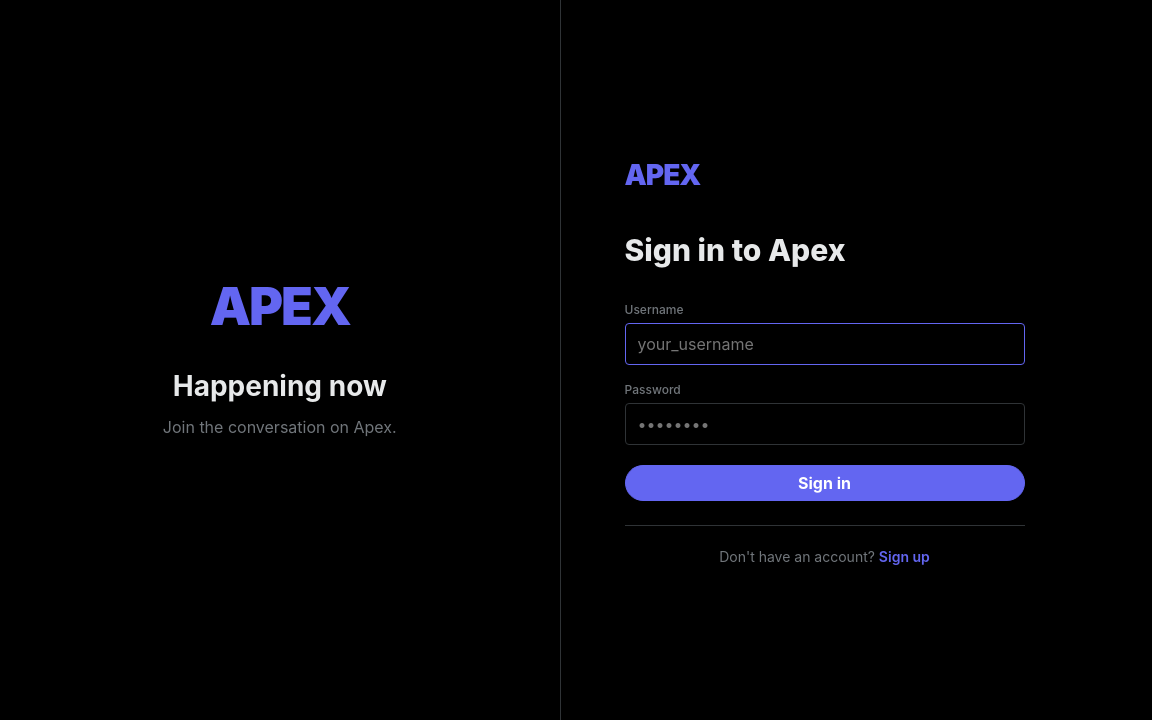
AuthPage — mode switching › switches to signup mode when "Sign up" link is clicked
Click the text "Sign up" at point(904, 556), box left=879, top=548, right=930, bottom=564
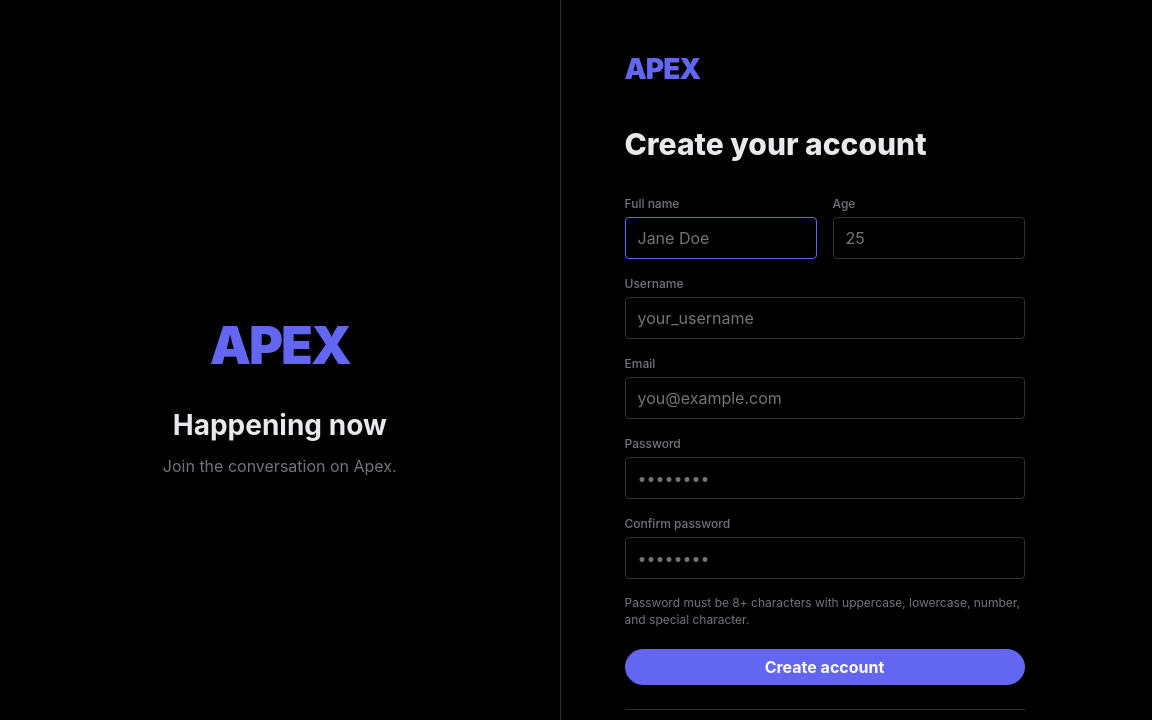
Now the heading "Create your account" is shown, box left=624, top=122, right=927, bottom=167
